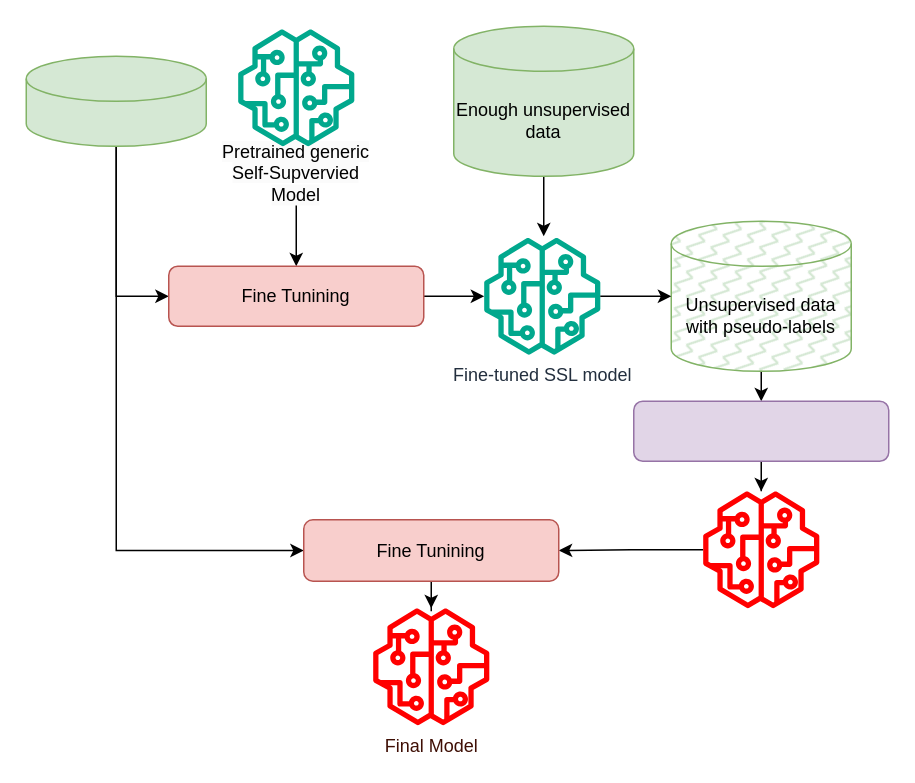
The diagram is 915 pixels wide and 783 high, and some of its shapes have lost their labels. The shapes that lost their labels are listed below. From the top down, each one's centre as x and y in pixels, then its label:
At [115,100]: "Limited supervised data".
At [760,430]: "Training from scratch".
At [760,549]: "Initial Model".
